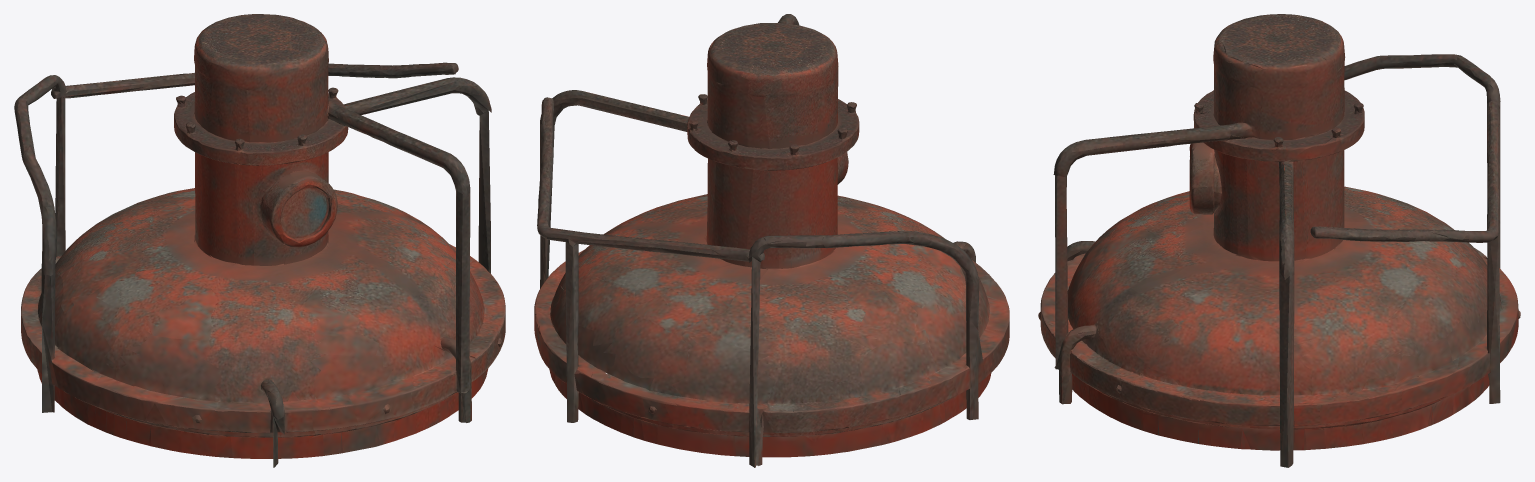
The model's file is cilindro_coperchio.glb.
3 renders of one model, left to right at view 1: azimuth 30°, elevation 25°; view 2: azimuth 150°, elevation 25°; view 3: azimuth 270°, elevation 25°, orthographic. The views are drawn at different scales.
Visible parts, largest first — view 1: cilindro_coperchio; view 2: cilindro_coperchio; view 3: cilindro_coperchio.
Boxes of the visible parts, bbox=[...] form: cilindro_coperchio: bbox=[14, 14, 505, 467]; cilindro_coperchio: bbox=[534, 14, 1009, 467]; cilindro_coperchio: bbox=[1038, 14, 1520, 467].
Bounding box in the file's own units: 1.32 × 0.9147 × 1.26.
1 material, 1 textured.
